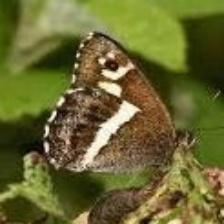butterfly: (44, 32, 198, 172)
